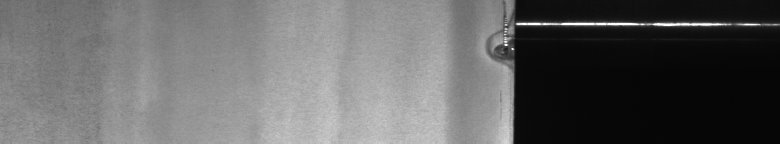hb: (479, 4, 504, 102)
